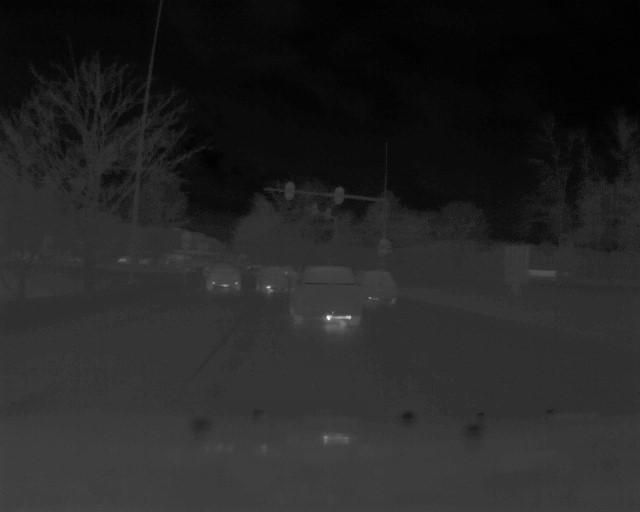car: (285, 260, 365, 330), (253, 265, 306, 297), (354, 269, 398, 306), (203, 258, 244, 294)
